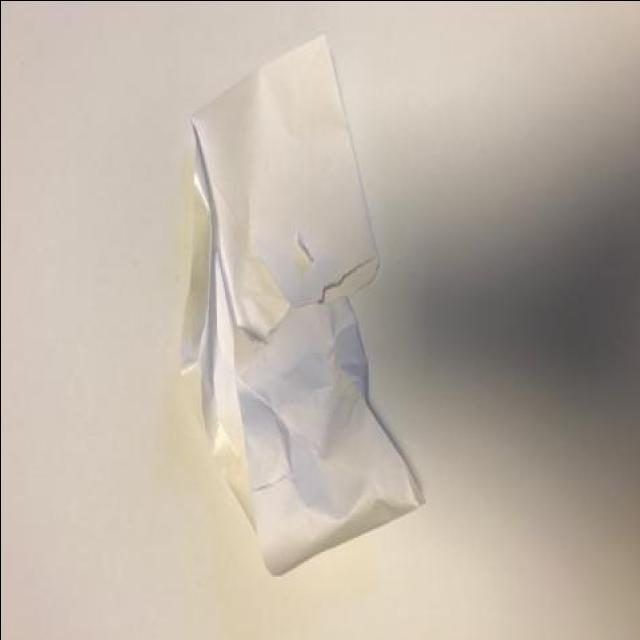kertas: (179, 33, 427, 576)
